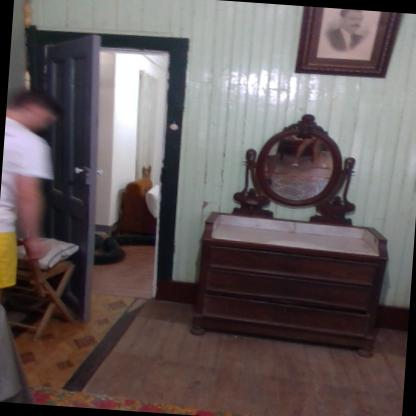semi: (8, 19, 196, 326)
